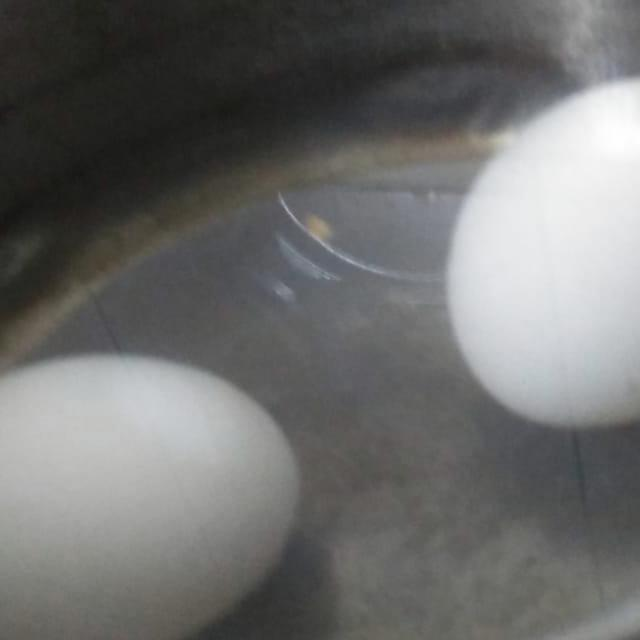egg: (0, 295, 321, 640), (444, 47, 640, 411)
